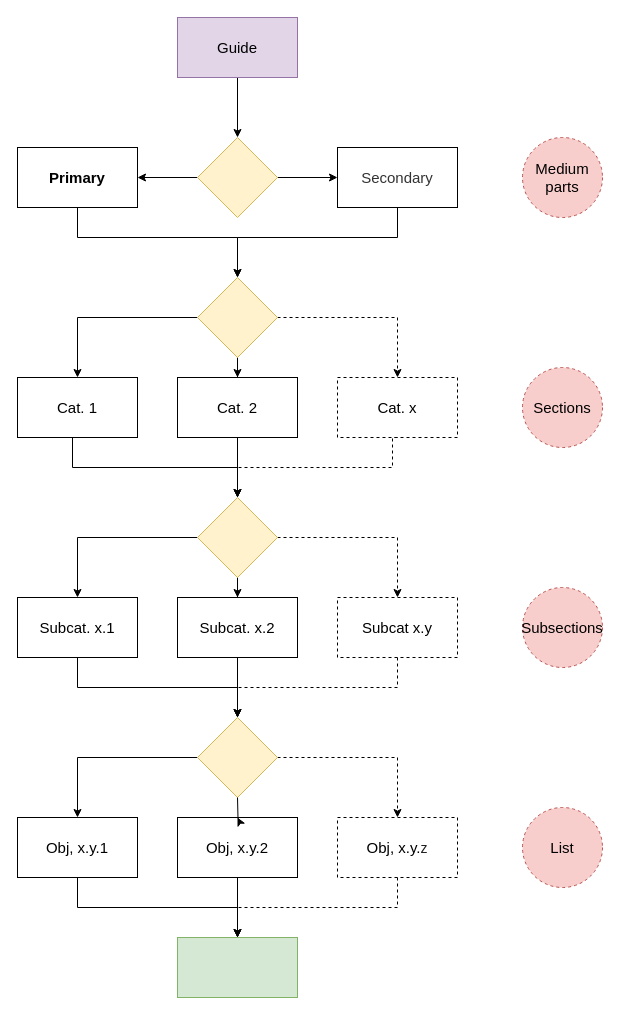
Image size: 621x1015. Some labels were removed from this diagram. Here are the shapes that lost their labels. From the top down, the box of each, then its label:
(196, 136, 278, 218): Nature ?
(196, 276, 278, 358): Cat. ?
(196, 496, 278, 578): Subcat ?
(196, 716, 278, 798): Obj. ?
(176, 936, 298, 998): Content
